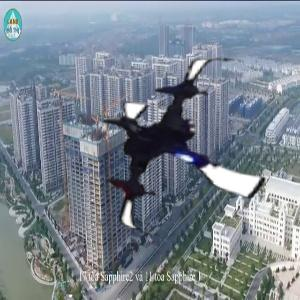drone: (87, 47, 289, 249)
